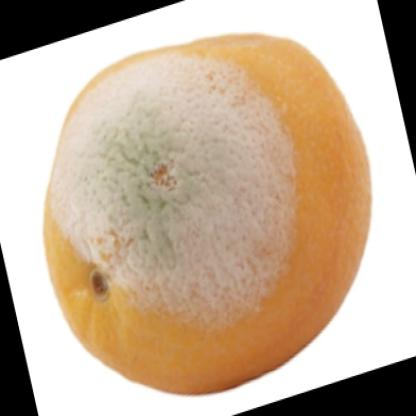rotten: (46, 35, 374, 394)
